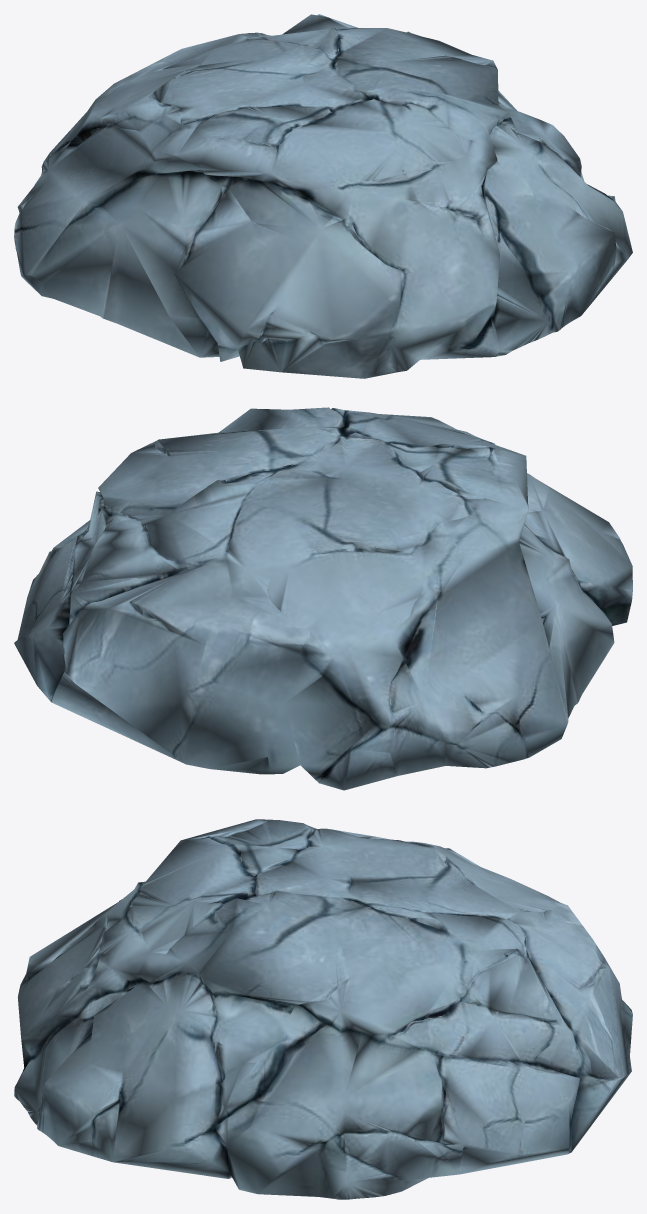
File: rock_angular.glb
3 renders of one model, top to bottom at view 1: azimuth 30°, elevation 25°; view 2: azimuth 150°, elevation 25°; view 3: azimuth 270°, elevation 25°, orthographic. The views are drawn at different scales.
Bounding box in the file's own units: 1.84 × 0.6336 × 1.83.
1 material, 1 textured.
